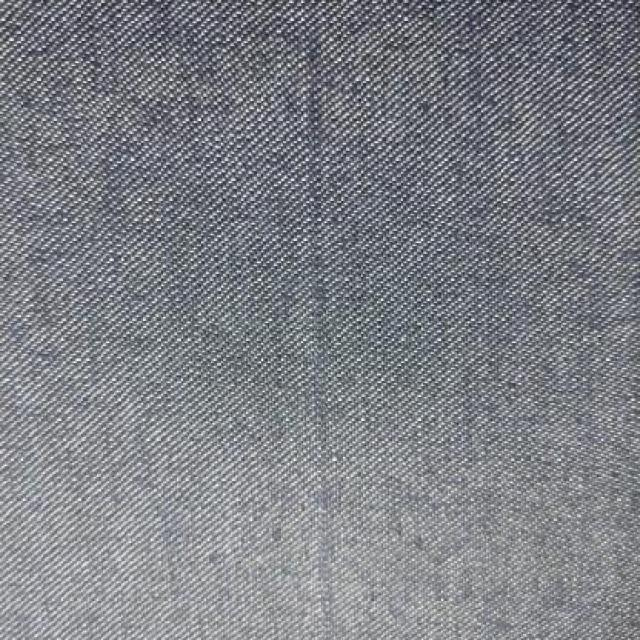pulled_or_thick_thread: (298, 17, 342, 608)
